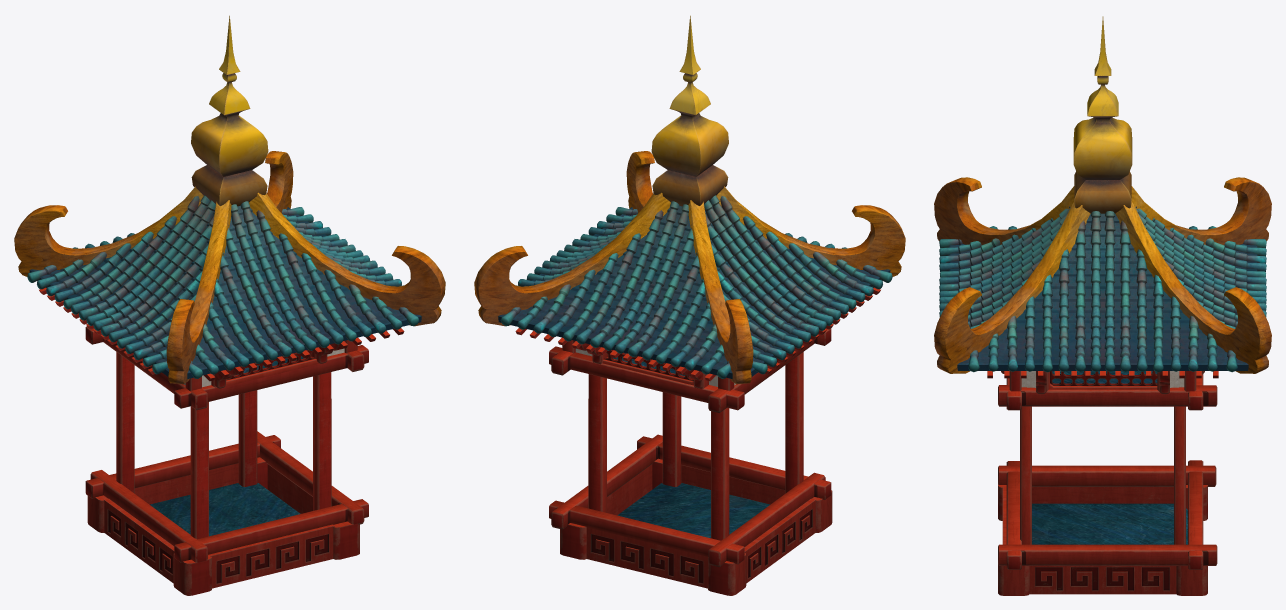
File: SM_Bell_B.glb
3 renders of one model, left to right at view 1: azimuth 30°, elevation 25°; view 2: azimuth 150°, elevation 25°; view 3: azimuth 270°, elevation 25°, orthographic. The views are drawn at different scales.
Visible parts, largest first — view 1: SM_Bell_B_LOD0; view 2: SM_Bell_B_LOD0; view 3: SM_Bell_B_LOD0.
Part boxes in pixels (box(x1,y1,x2,y2)): SM_Bell_B_LOD0: box(14, 15, 445, 595); SM_Bell_B_LOD0: box(474, 15, 905, 595); SM_Bell_B_LOD0: box(934, 16, 1271, 595).
Size of the model in its own units: 5.26 by 9.43 by 5.34.
4 materials, 4 textured.
